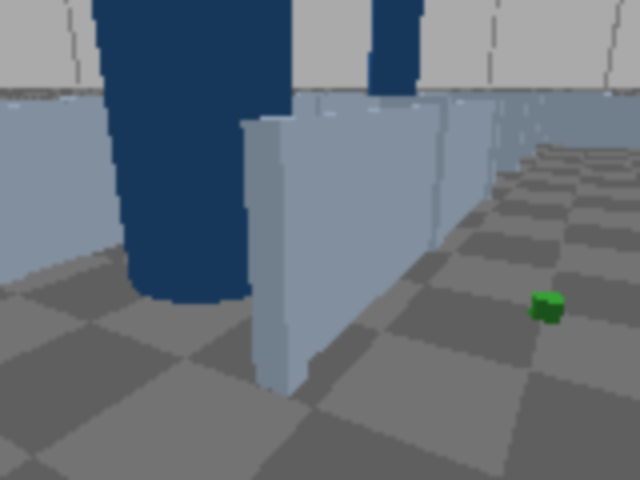puck: (529, 291, 565, 323)
